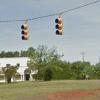Traffic light: (13, 10, 66, 42)
